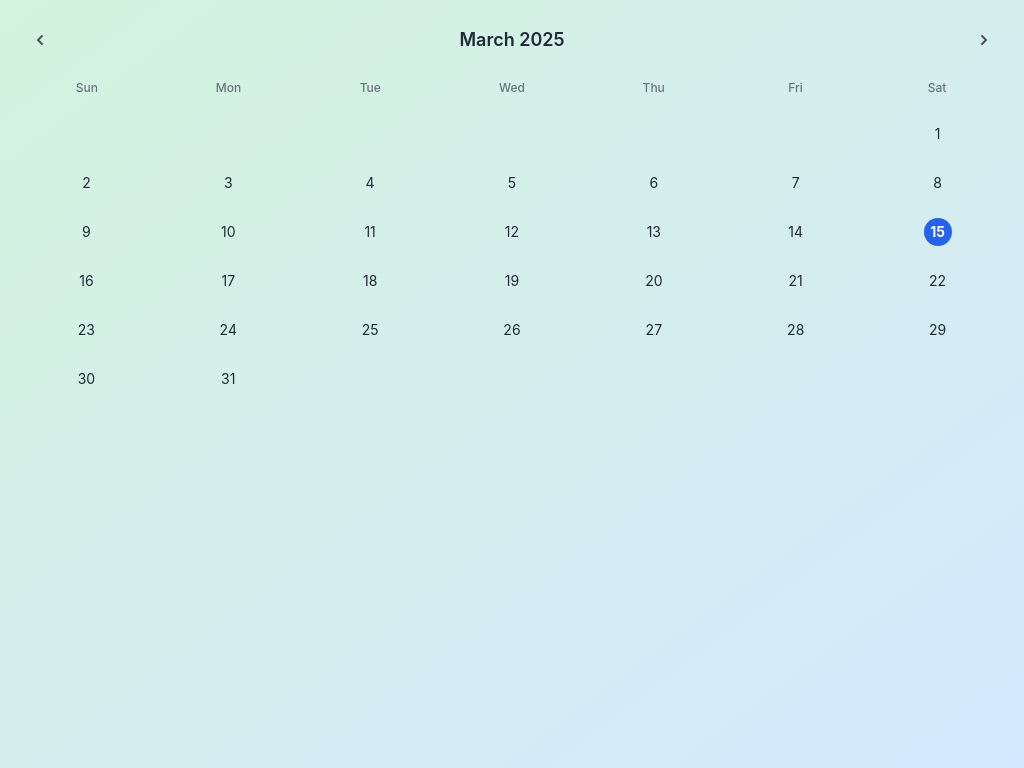
Scenario: Calendar — month header and navigation › wraps from January to previous year December when going back
Click the button named "Previous month". click: [40, 40]
box: [16,16,64,64]
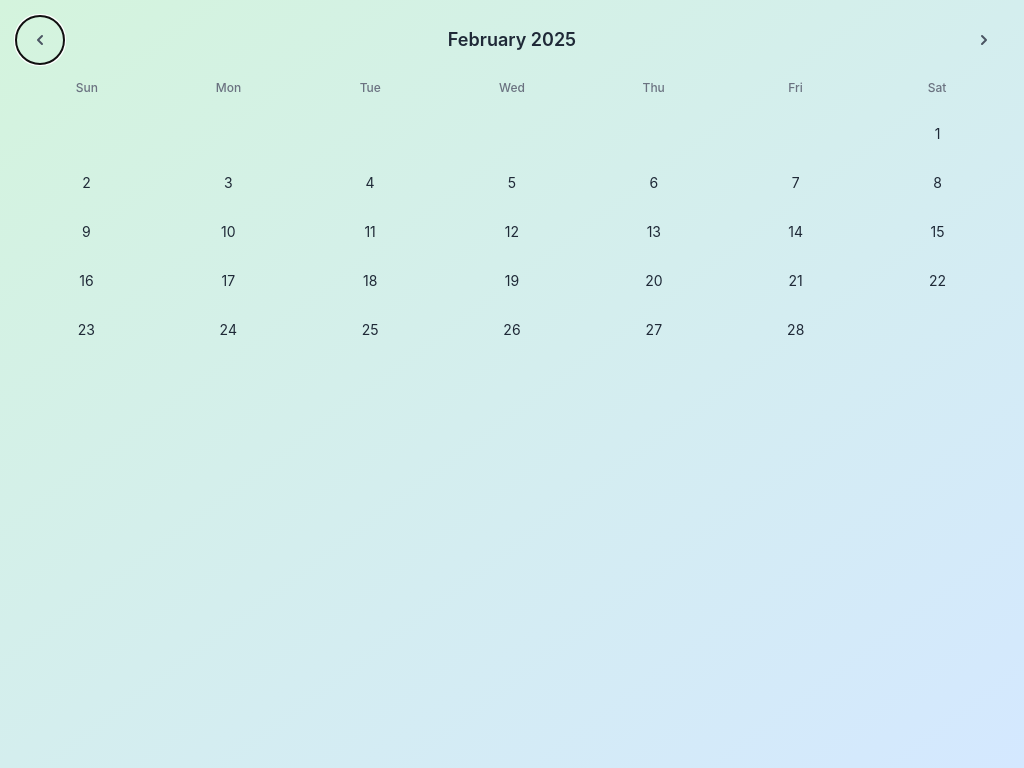
Click the button named "Previous month". click: [40, 40]
box: [16,16,64,64]
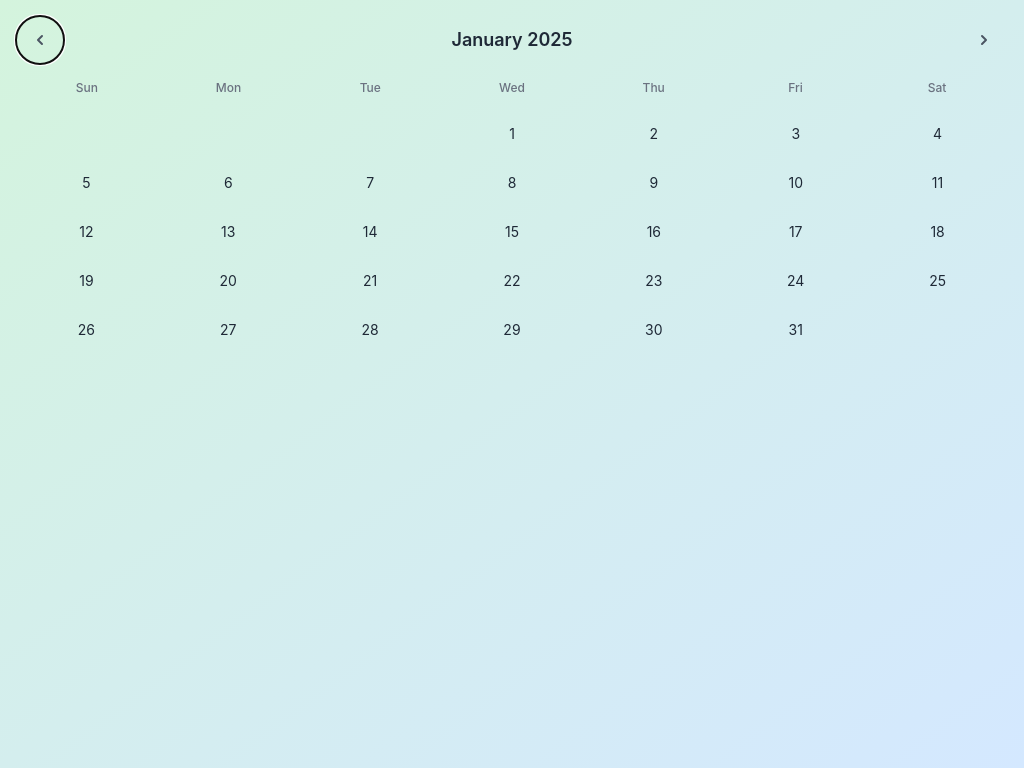
Click the button named "Previous month". click: [40, 40]
box: [16,16,64,64]
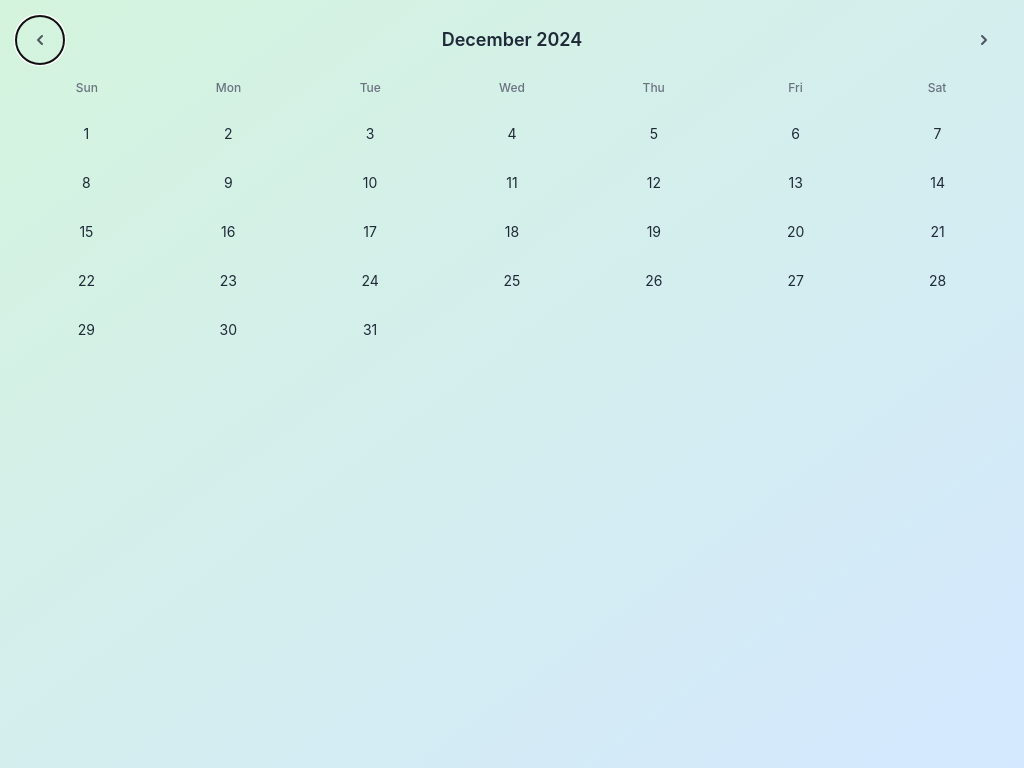
expect the heading "December 2024" is shown: met, box [442,26,582,54]
